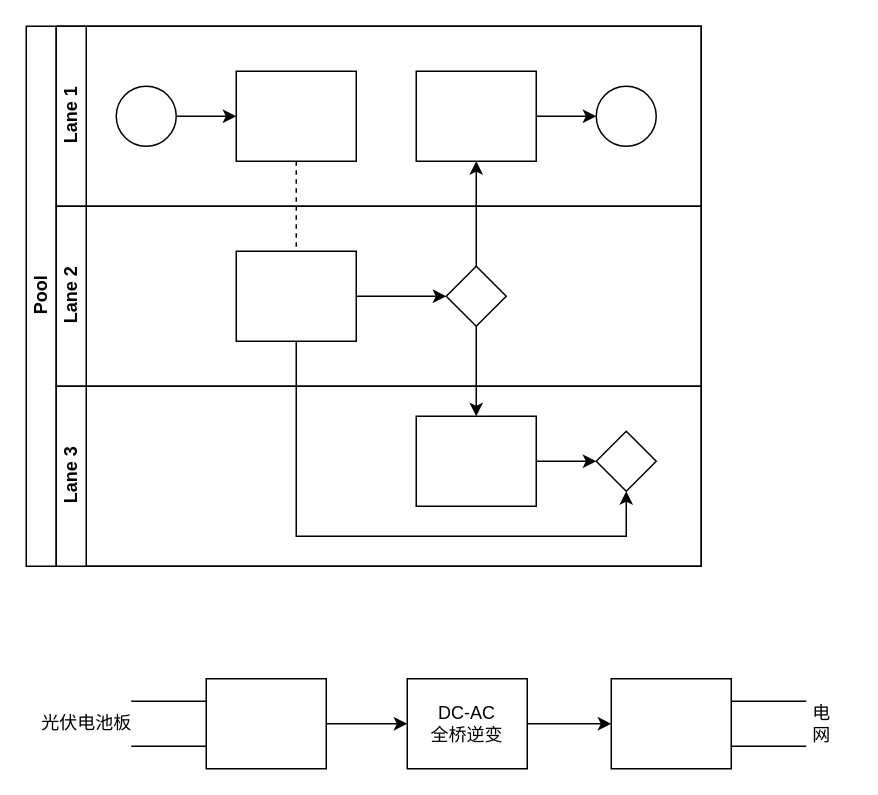
This 878x795 diagram has some shape labels left out. Each missing label, with the centre of its shape:
"DC-DC llc谐振变换" belongs at point 265,723.
"EMI 滤波电路" belongs at point 670,723.
